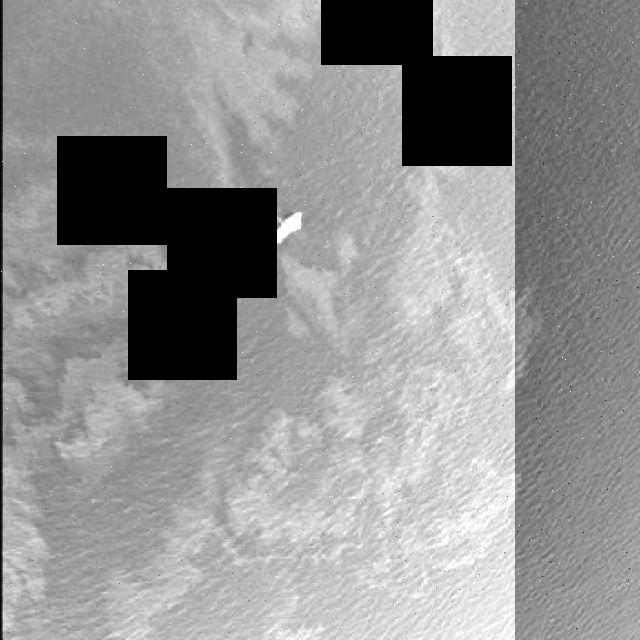oil spill: (3, 0, 515, 640)
